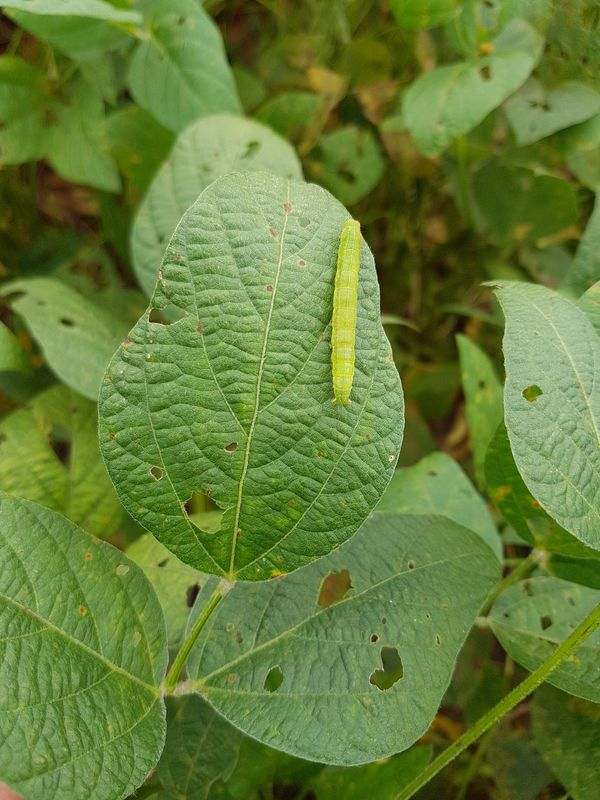Anticarsia_gemmatalis: (294, 208, 407, 411)
